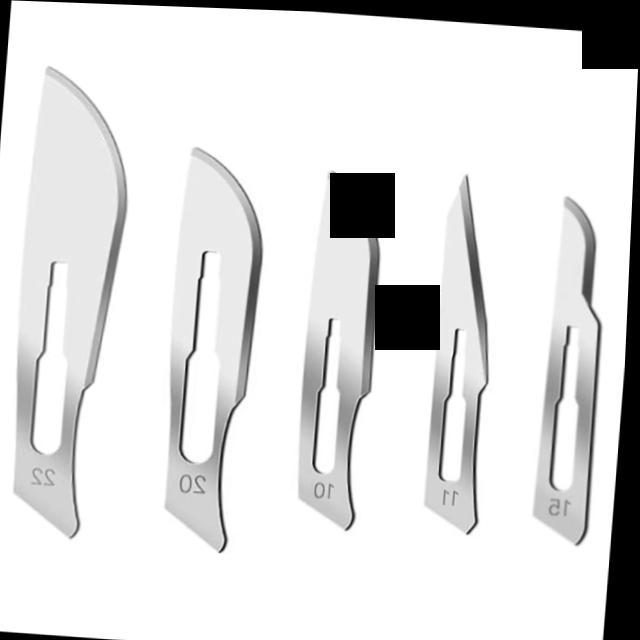Surgical blade: (4, 62, 143, 540), (158, 138, 288, 558), (416, 155, 524, 538), (291, 157, 397, 527), (530, 188, 622, 546)
